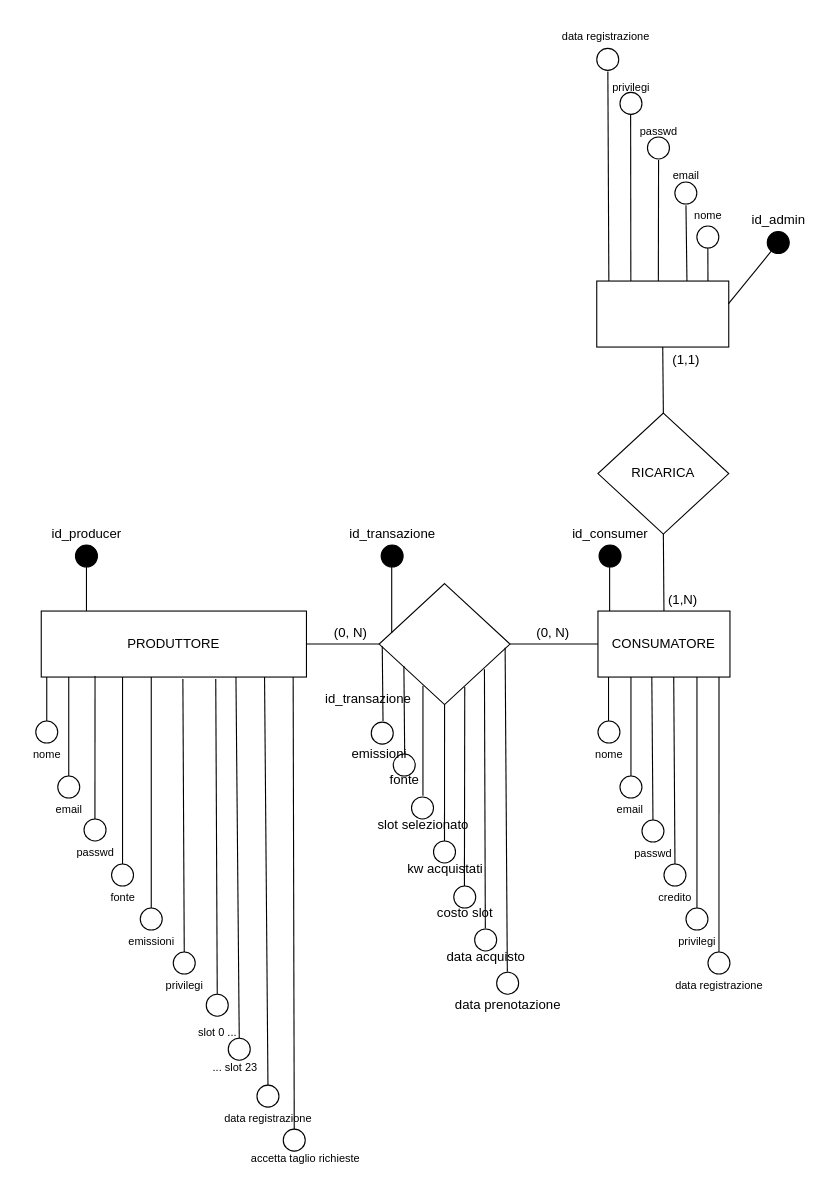
Image size: 835x1192. Some labels were removed from this diagram. The box of each missing label's shape, as (x1, y1, x2, y2) in pixels:
AMMINISTRATORE: (596, 280, 729, 347)
TRANSAZIONE (slot): (378, 582, 510, 705)
